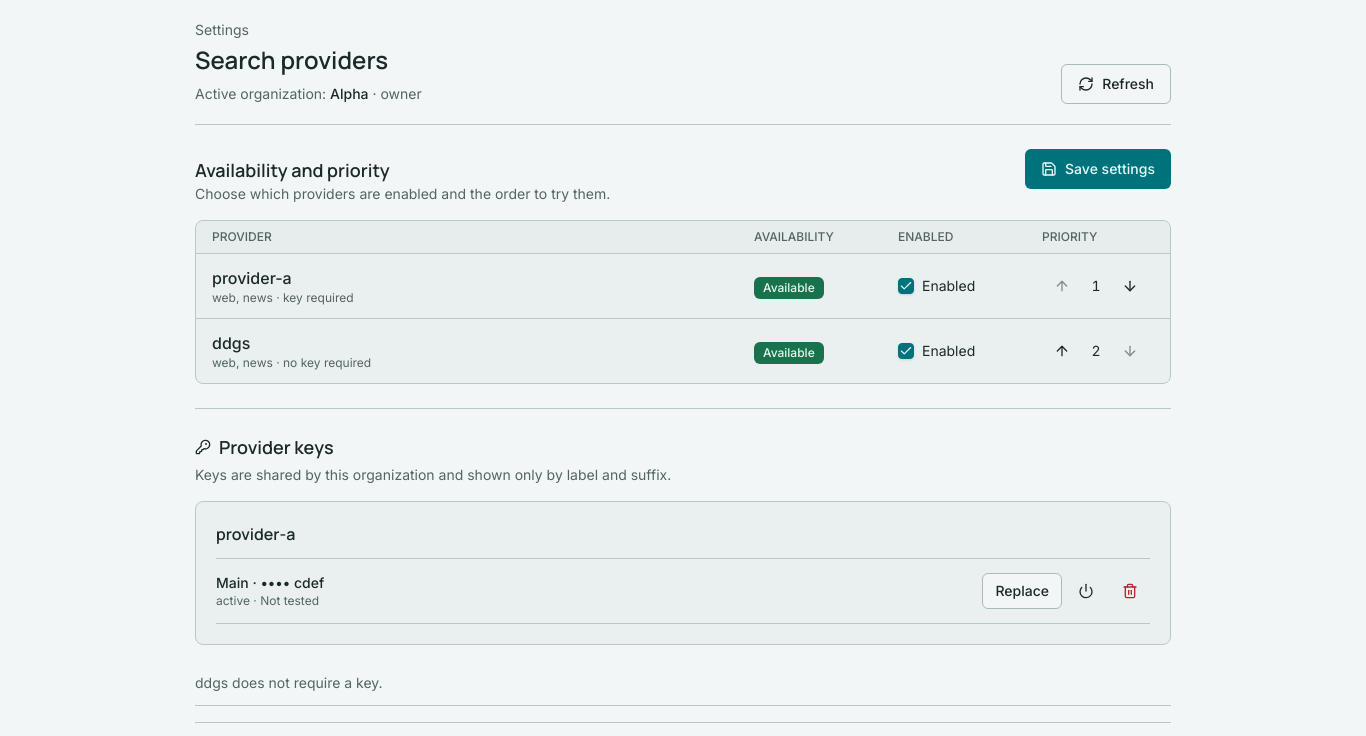
it: Search settings page › tests and replaces an existing provider key
The width and height of the screenshot is (1366, 736).
Expected: the text "Main · •••• cdef" is shown, [216,573,324,593]
Click the button "Replace".
click(1022, 591)  # box [982,573,1062,609]
(page scrolled)
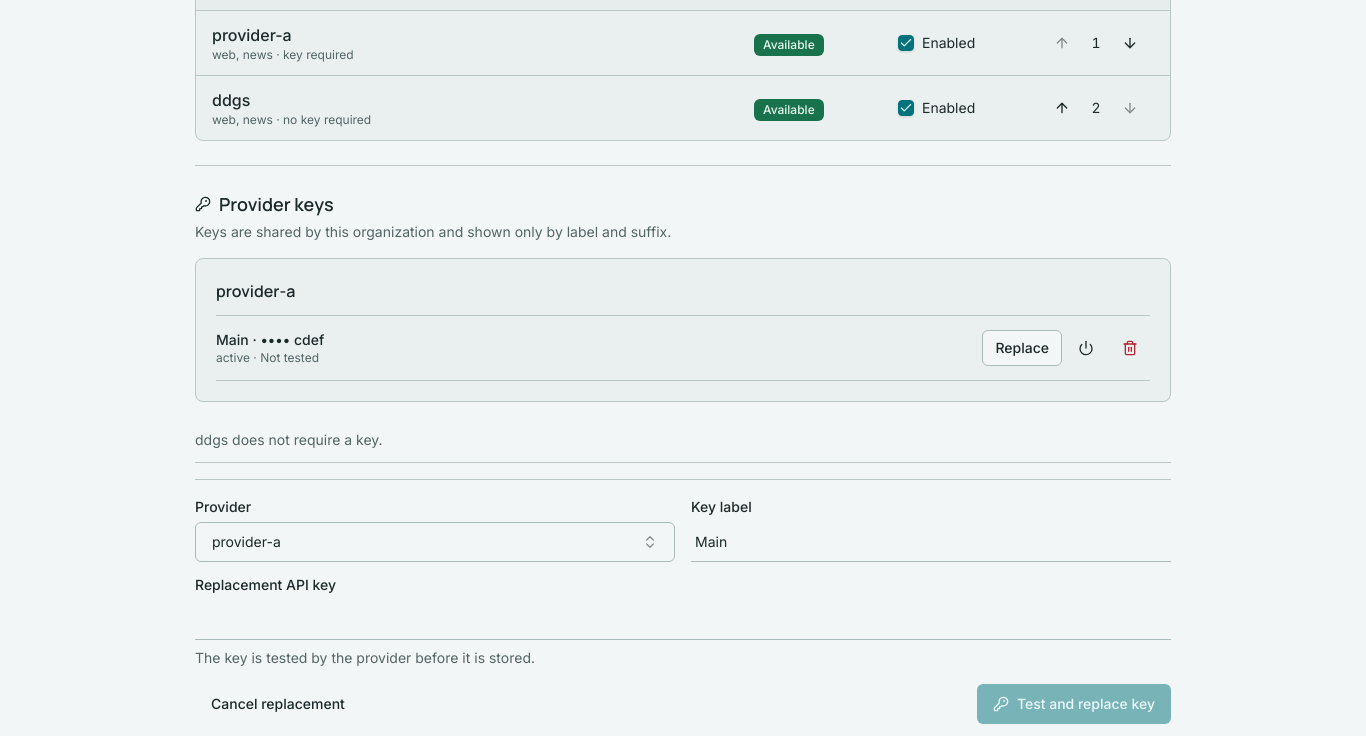
Type "replacement-secret" into the password field labelled "Replacement API key".
click(683, 620); type("replacement-secret")  # box [195,600,1171,640]
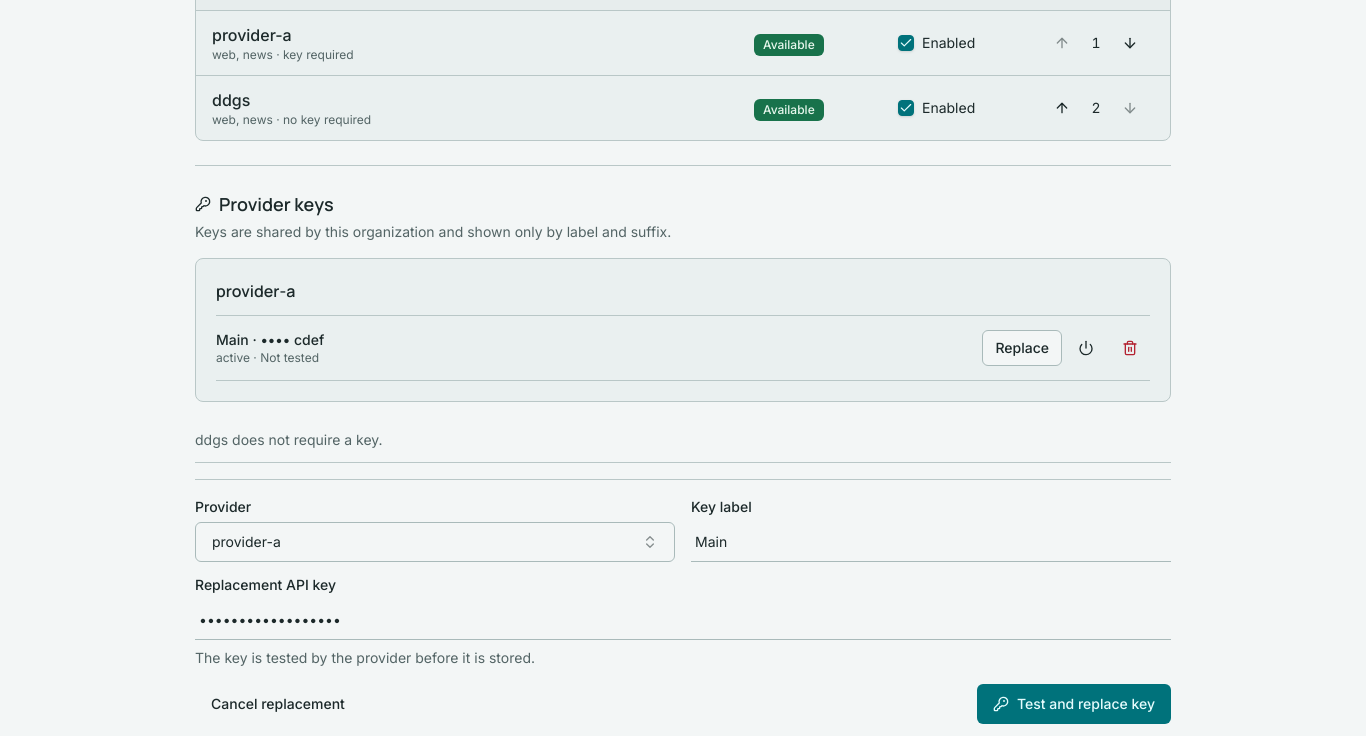
Click the button "Test and replace key".
click(1074, 704)  # box [977,684,1171,724]
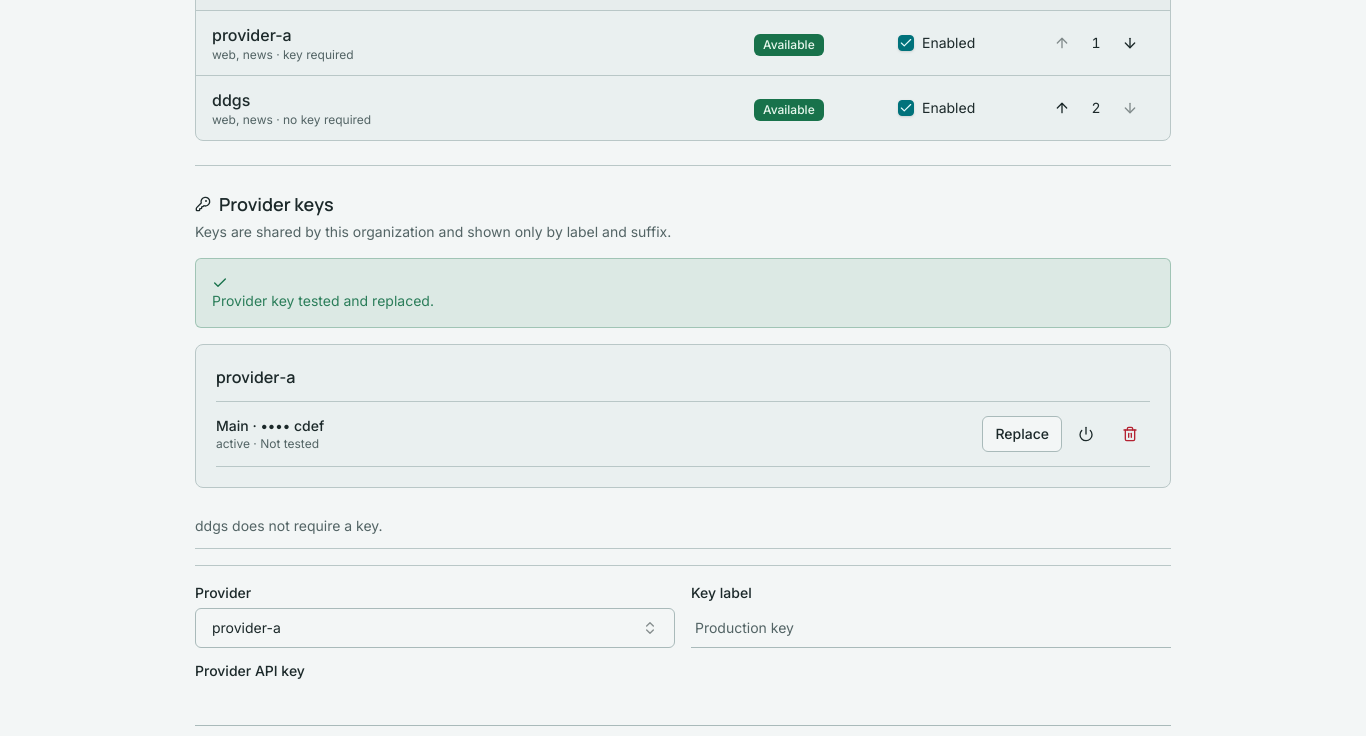
Result: the text "Provider key tested and replaced." is shown at [212,292,434,309]
